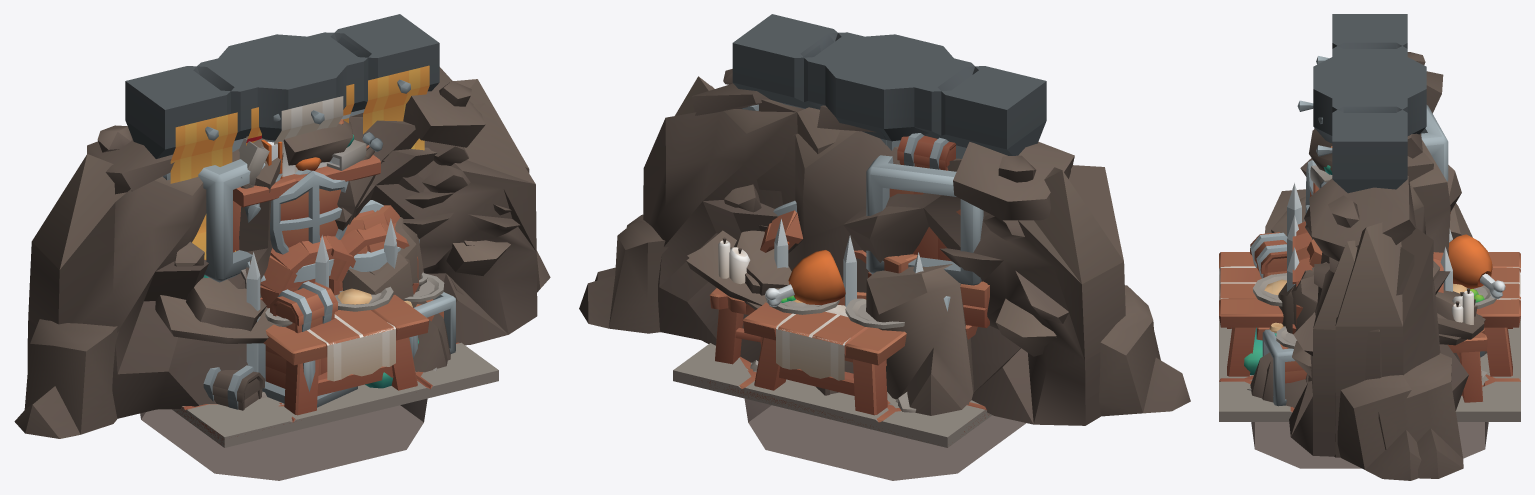
The model's file is dungeon.glb.
3 views of the same model, side by side, from view 1: azimuth 30°, elevation 25°; view 2: azimuth 150°, elevation 25°; view 3: azimuth 270°, elevation 25° (orthographic). The views are drawn at different scales.
Visible parts, largest first — view 1: rubble_large, wall_arched, box_stacked, floor_tile_big_grate, rubble_half, pillar_decorated, banner_triple_yellow, floor_tile_large_rocks, table_long, table_long_decorated_A, wall_pillar, wall_shelves (+10 smaller); view 2: rubble_large, rubble_half, wall_arched, floor_tile_big_grate, wall_shelves, table_long_decorated_A, box_stacked, floor_tile_large_rocks, wall_pillar, table_long, bed_decorated, table_long_tablecloth_decorated_A (+7 smaller); view 3: rubble_half, rubble_large, wall_arched, table_long_decorated_A, table_long, wall, floor_tile_large_rocks, bed_decorated, box_stacked, floor_tile_big_grate, wall_pillar, wall_half (+10 smaller).
Part boxes in pixels (x1,y1,x2,y2): rubble_large: [14, 103, 550, 438]; wall_arched: [125, 14, 439, 180]; box_stacked: [198, 159, 418, 410]; floor_tile_big_grate: [140, 370, 498, 480]; rubble_half: [337, 67, 529, 360]; pillar_decorated: [241, 41, 383, 254]; banner_triple_yellow: [170, 65, 429, 259]; floor_tile_large_rocks: [171, 342, 498, 447]; table_long: [264, 294, 428, 415]; table_long_decorated_A: [263, 286, 429, 414]; wall_pillar: [165, 34, 366, 142]; wall_shelves: [201, 50, 380, 300]; rubble_large: [595, 86, 1190, 425]; rubble_half: [579, 69, 840, 362]; wall_arched: [733, 14, 1046, 155]; floor_tile_big_grate: [673, 370, 1026, 480]; wall_shelves: [732, 33, 1012, 158]; table_long_decorated_A: [743, 250, 906, 414]; box_stacked: [816, 133, 983, 395]; floor_tile_large_rocks: [673, 343, 992, 447]; wall_pillar: [809, 33, 974, 150]; table_long: [742, 302, 904, 415]; bed_decorated: [709, 237, 886, 365]; table_long_tablecloth_decorated_A: [744, 313, 875, 380]; rubble_half: [1262, 152, 1484, 478]; rubble_large: [1250, 52, 1485, 480]; wall_arched: [1332, 14, 1407, 193]; table_long_decorated_A: [1219, 234, 1520, 376]; table_long: [1219, 252, 1520, 358]; wall: [1332, 69, 1407, 192]; floor_tile_large_rocks: [1219, 317, 1520, 413]; bed_decorated: [1256, 288, 1487, 406]; box_stacked: [1231, 105, 1487, 374]; floor_tile_big_grate: [1250, 412, 1488, 468]; wall_pillar: [1313, 57, 1426, 143]; wall_half: [1332, 141, 1369, 187].
Size of the model in its own units: 8.13 by 5.2 by 4.
Materials: 1 (1 with a texture image).
